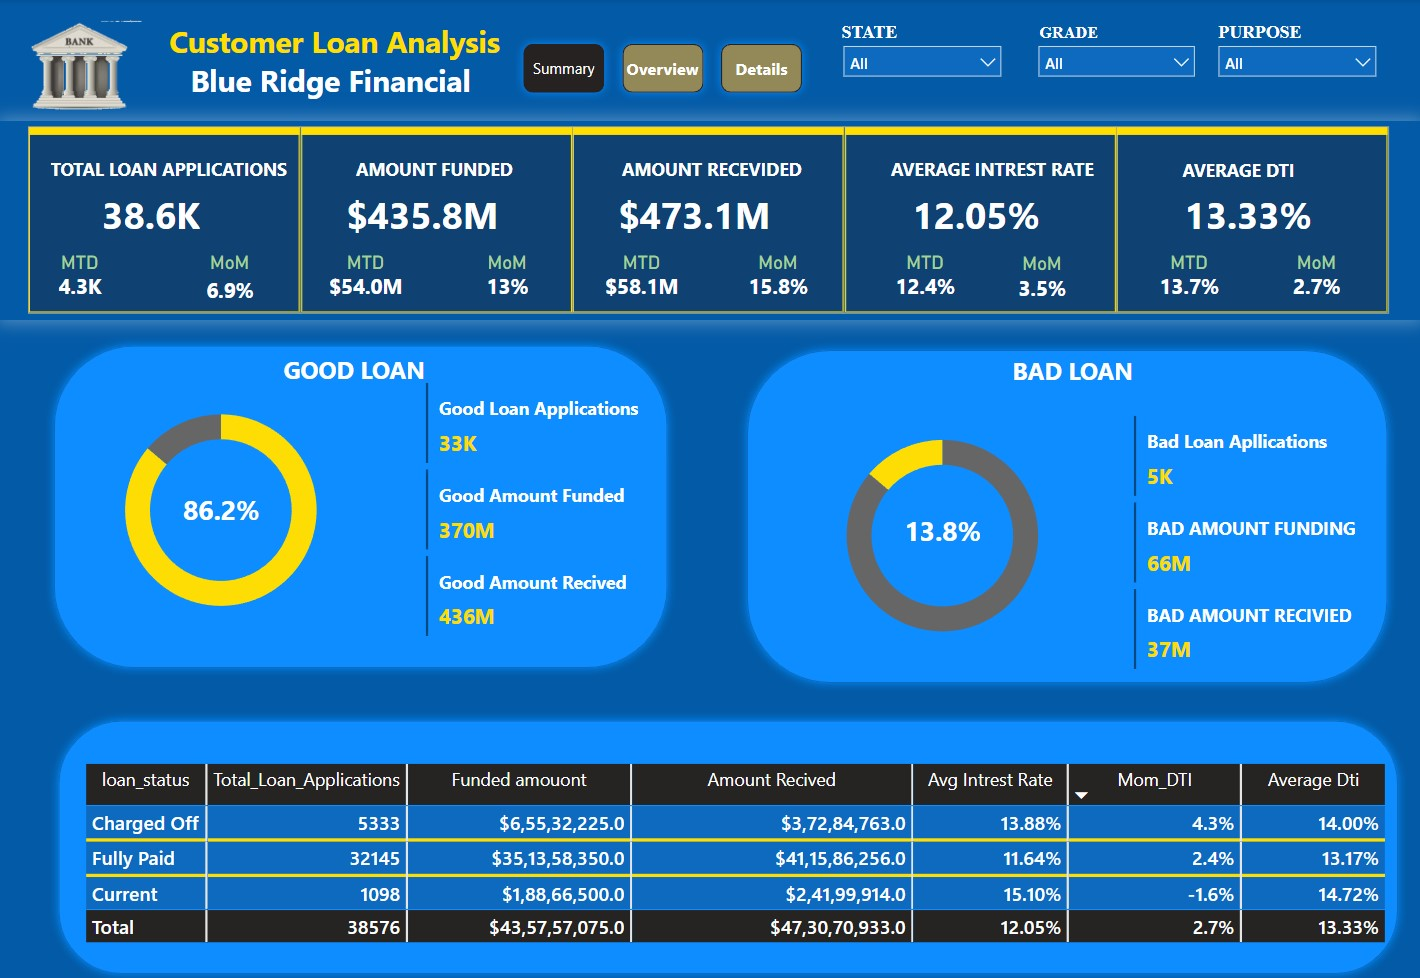

The page's visual inventory and layout, read from the dashboard file:
{"tool":"powerbi","page":{"name":"Summary","canvas":[1280,900],"ordinal":0},"visuals":[{"type":"textbox","box":[40.5,136.5,233.8,36.5],"z":0,"group":"g1"},{"type":"cardVisual","fields":{"Data":["financial_loan.Total_Loan_Applications","financial_loan.Funded amouont","financial_loan.Amount Recived","financial_loan.Avg Intrest Rate","financial_loan.Average Dti"]},"box":[0,109.5,1279.7,179.7],"z":0},{"type":"textbox","box":[274.3,136.5,233.8,36.5],"z":1000,"group":"g1"},{"type":"textbox","box":[143.2,16.2,294.6,67.6],"z":1000},{"type":"textbox","box":[524.3,136.5,233.8,36.5],"z":2000,"group":"g1"},{"type":"card","title":"MTD","fields":{"Values":["financial_loan.MTD"]},"box":[39.6,227,64.9,47.3],"z":2000},{"type":"textbox","box":[777,136.5,233.8,36.5],"z":3000,"group":"g1"},{"type":"card","title":"MoM","fields":{"Values":["financial_loan.MoM"]},"box":[170.7,227,73,54.1],"z":3000},{"type":"textbox","box":[998.6,137.9,233.8,36.5],"z":4000,"group":"g1"},{"type":"shape","box":[40.5,304.1,568.9,306.8],"z":4000},{"type":"group","id":"g1","title":"Group 1","box":[40.5,136.5,1191.9,37.8],"z":5000},{"type":"card","title":"MTD","fields":{"Values":["financial_loan.MTD_Funded"]},"box":[285.6,227,87.8,47.3],"z":6000},{"type":"card","title":"MoM","fields":{"Values":["financial_loan.momFunded"]},"box":[420.7,227,73,47.3],"z":7000},{"type":"card","title":"MTD","fields":{"Values":["financial_loan.MTD_Recevied"]},"box":[534.2,227,87.8,47.3],"z":8000},{"type":"card","title":"MoM","fields":{"Values":["financial_loan.MOM_Recieveid"]},"box":[655.9,227,90.5,47.3],"z":9000},{"type":"card","title":"MTD","fields":{"Values":["financial_loan.MTD_IntrestRate"]},"box":[789.6,227,87.8,47.3],"z":10000},{"type":"card","title":"MoM","fields":{"Values":["financial_loan.MOM_intrest"]},"box":[893.7,228.4,90.5,47.3],"z":11000},{"type":"card","title":"MTD","fields":{"Values":["financial_loan.MTD_DTI"]},"box":[1027.5,227,87.8,47.3],"z":12000},{"type":"card","title":"MoM","fields":{"Values":["financial_loan.Mom_DTI"]},"box":[1141,227,90.5,47.3],"z":13000},{"type":"donutChart","fields":{"Category":["financial_loan.Status"],"Y":["financial_loan.Total_Loan_Applications"]},"box":[23,347.3,351.4,225.7],"z":14000},{"type":"shape","box":[664.9,308.1,593.2,316.2],"z":15000},{"type":"card","fields":{"Values":["financial_loan.Percentage_Of_Good"]},"box":[155.4,431.1,86.5,59.5],"z":16000},{"type":"textbox","box":[143.2,313.5,351.4,51.4],"z":17000},{"type":"cardVisual","fields":{"Data":["financial_loan.Total_Good_Loan","financial_loan.good_Amount_funded","financial_loan.Good_amount_recieved"]},"box":[378.4,340.5,263.5,240.5],"z":18000},{"type":"shape","box":[44.6,641.9,1223,244.6],"z":19000},{"type":"donutChart","fields":{"Category":["financial_loan.Status"],"Y":["financial_loan.Total_Loan_Applications"]},"box":[673,370.3,351.4,225.7],"z":20000},{"type":"card","fields":{"Values":["financial_loan.Percentage_Of_Bad"]},"box":[801.4,450,94.6,59.5],"z":21000},{"type":"textbox","box":[790.5,314.9,351.4,51.4],"z":22000},{"type":"cardVisual","fields":{"Data":["financial_loan.Bad Loan Apllications","financial_loan.BAD AMOUNT FUNDING","financial_loan.BAD AMOUNT RECIVIED"]},"box":[1016.2,370.3,263.5,240.5],"z":23000},{"type":"tableEx","fields":{"Values":["financial_loan.loan_status","financial_loan.Total_Loan_Applications","financial_loan.Funded amouont","financial_loan.Amount Recived","financial_loan.Avg Intrest Rate","financial_loan.Mom_DTI","financial_loan.Average Dti"]},"box":[71.6,683.8,1194.6,216.2],"z":24000},{"type":"slicer","fields":{"Values":["financial_loan.address_state"]},"box":[750,32.9,162.2,66.2],"z":25000},{"type":"slicer","fields":{"Values":["financial_loan.grade"]},"box":[925.7,32.9,160.8,66.2],"z":26000},{"type":"slicer","fields":{"Values":["financial_loan.purpose"]},"box":[1087.8,32.9,162.2,66.2],"z":27000},{"type":"textbox","box":[713.5,15.3,139.2,51.4],"z":28000},{"type":"textbox","box":[893.2,15.3,139.2,51.4],"z":29000},{"type":"textbox","box":[1051.4,15.3,139.2,51.4],"z":30000},{"type":"textbox","box":[108.1,0,386.5,108.1],"z":31000},{"type":"image","box":[0,13.5,143.2,95.9],"z":32000},{"type":"pageNavigator","box":[462.9,32.9,268.6,60],"z":33000}]}

Visuals, with their boxes in screenshot pixels (x1, y1, x2, y2), scaled from the page's 1280x900 canvas onto the 1420x978 screenshot:
textbox: (x1=45, y1=148, x2=304, y2=188)
cardVisual - financial_loan.Total_Loan_Applications x financial_loan.Funded amouont: (x1=0, y1=119, x2=1419, y2=314)
textbox: (x1=304, y1=148, x2=564, y2=188)
textbox: (x1=159, y1=18, x2=486, y2=91)
textbox: (x1=582, y1=148, x2=841, y2=188)
"MTD" card: (x1=44, y1=247, x2=116, y2=298)
textbox: (x1=862, y1=148, x2=1121, y2=188)
"MoM" card: (x1=189, y1=247, x2=270, y2=305)
textbox: (x1=1108, y1=150, x2=1367, y2=190)
shape: (x1=45, y1=330, x2=676, y2=664)
"Group 1" group: (x1=45, y1=148, x2=1367, y2=189)
"MTD" card: (x1=317, y1=247, x2=414, y2=298)
"MoM" card: (x1=467, y1=247, x2=548, y2=298)
"MTD" card: (x1=593, y1=247, x2=690, y2=298)
"MoM" card: (x1=728, y1=247, x2=828, y2=298)
"MTD" card: (x1=876, y1=247, x2=973, y2=298)
"MoM" card: (x1=991, y1=248, x2=1092, y2=300)
"MTD" card: (x1=1140, y1=247, x2=1237, y2=298)
"MoM" card: (x1=1266, y1=247, x2=1366, y2=298)
donutChart - financial_loan.Status x financial_loan.Total_Loan_Applications: (x1=26, y1=377, x2=415, y2=623)
shape: (x1=738, y1=335, x2=1396, y2=678)
card - financial_loan.Percentage_Of_Good: (x1=172, y1=468, x2=268, y2=533)
textbox: (x1=159, y1=341, x2=549, y2=397)
cardVisual - financial_loan.Total_Good_Loan x financial_loan.good_Amount_funded: (x1=420, y1=370, x2=712, y2=631)
shape: (x1=49, y1=698, x2=1406, y2=963)
donutChart - financial_loan.Status x financial_loan.Total_Loan_Applications: (x1=747, y1=402, x2=1136, y2=648)
card - financial_loan.Percentage_Of_Bad: (x1=889, y1=489, x2=994, y2=554)
textbox: (x1=877, y1=342, x2=1267, y2=398)
cardVisual - financial_loan.Bad Loan Apllications x financial_loan.BAD AMOUNT FUNDING: (x1=1127, y1=402, x2=1419, y2=664)
tableEx - financial_loan.loan_status x financial_loan.Total_Loan_Applications: (x1=79, y1=743, x2=1405, y2=977)
slicer - financial_loan.address_state: (x1=832, y1=36, x2=1012, y2=108)
slicer - financial_loan.grade: (x1=1027, y1=36, x2=1205, y2=108)
slicer - financial_loan.purpose: (x1=1207, y1=36, x2=1387, y2=108)
textbox: (x1=792, y1=17, x2=946, y2=72)
textbox: (x1=991, y1=17, x2=1145, y2=72)
textbox: (x1=1166, y1=17, x2=1321, y2=72)
textbox: (x1=120, y1=0, x2=549, y2=117)
image: (x1=0, y1=15, x2=159, y2=119)
pageNavigator: (x1=514, y1=36, x2=812, y2=101)
